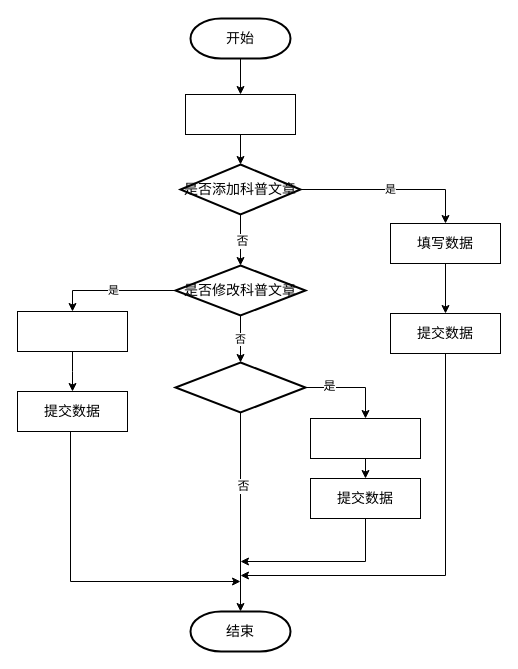
The diagram is 518 pixels wide and 669 high, and some of its shapes have lost their labels. The centre of each missing label's shape, as x and y in pixels:
"填写文章信息" belongs at pixel 72 331.
"是否删除科普文章" belongs at pixel 240 387.
"查看科普文章" belongs at pixel 240 114.
"选中文章" belongs at pixel 365 438.
